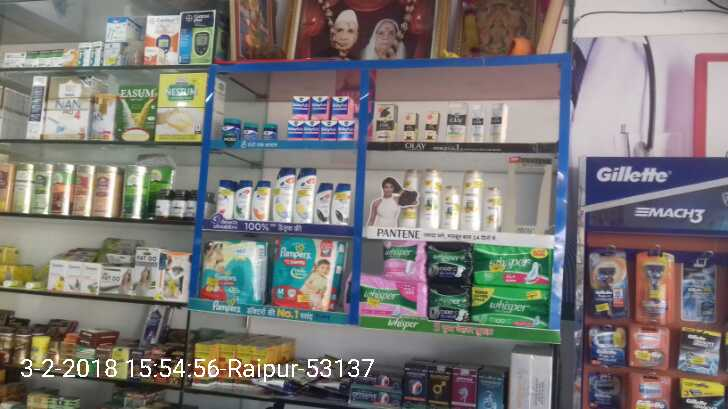beauty: (590, 245, 631, 325), (635, 250, 672, 324), (677, 329, 721, 379), (458, 164, 483, 238), (420, 167, 442, 233), (294, 164, 316, 229), (398, 165, 419, 233), (443, 97, 470, 143), (370, 99, 398, 143), (441, 181, 463, 234), (213, 173, 235, 224), (464, 101, 487, 146), (332, 183, 353, 231), (482, 186, 503, 233), (276, 164, 293, 222), (487, 100, 508, 146), (249, 178, 270, 223), (314, 180, 333, 227), (232, 180, 252, 223), (402, 109, 419, 146), (423, 109, 440, 143)
pharmacy: (266, 233, 345, 312), (195, 233, 273, 305), (337, 270, 428, 321), (469, 286, 553, 331), (474, 243, 552, 289), (427, 237, 475, 282), (382, 234, 427, 278), (426, 282, 473, 322), (286, 117, 357, 143), (290, 96, 353, 120), (221, 116, 244, 145), (242, 116, 259, 141), (261, 124, 279, 141)
